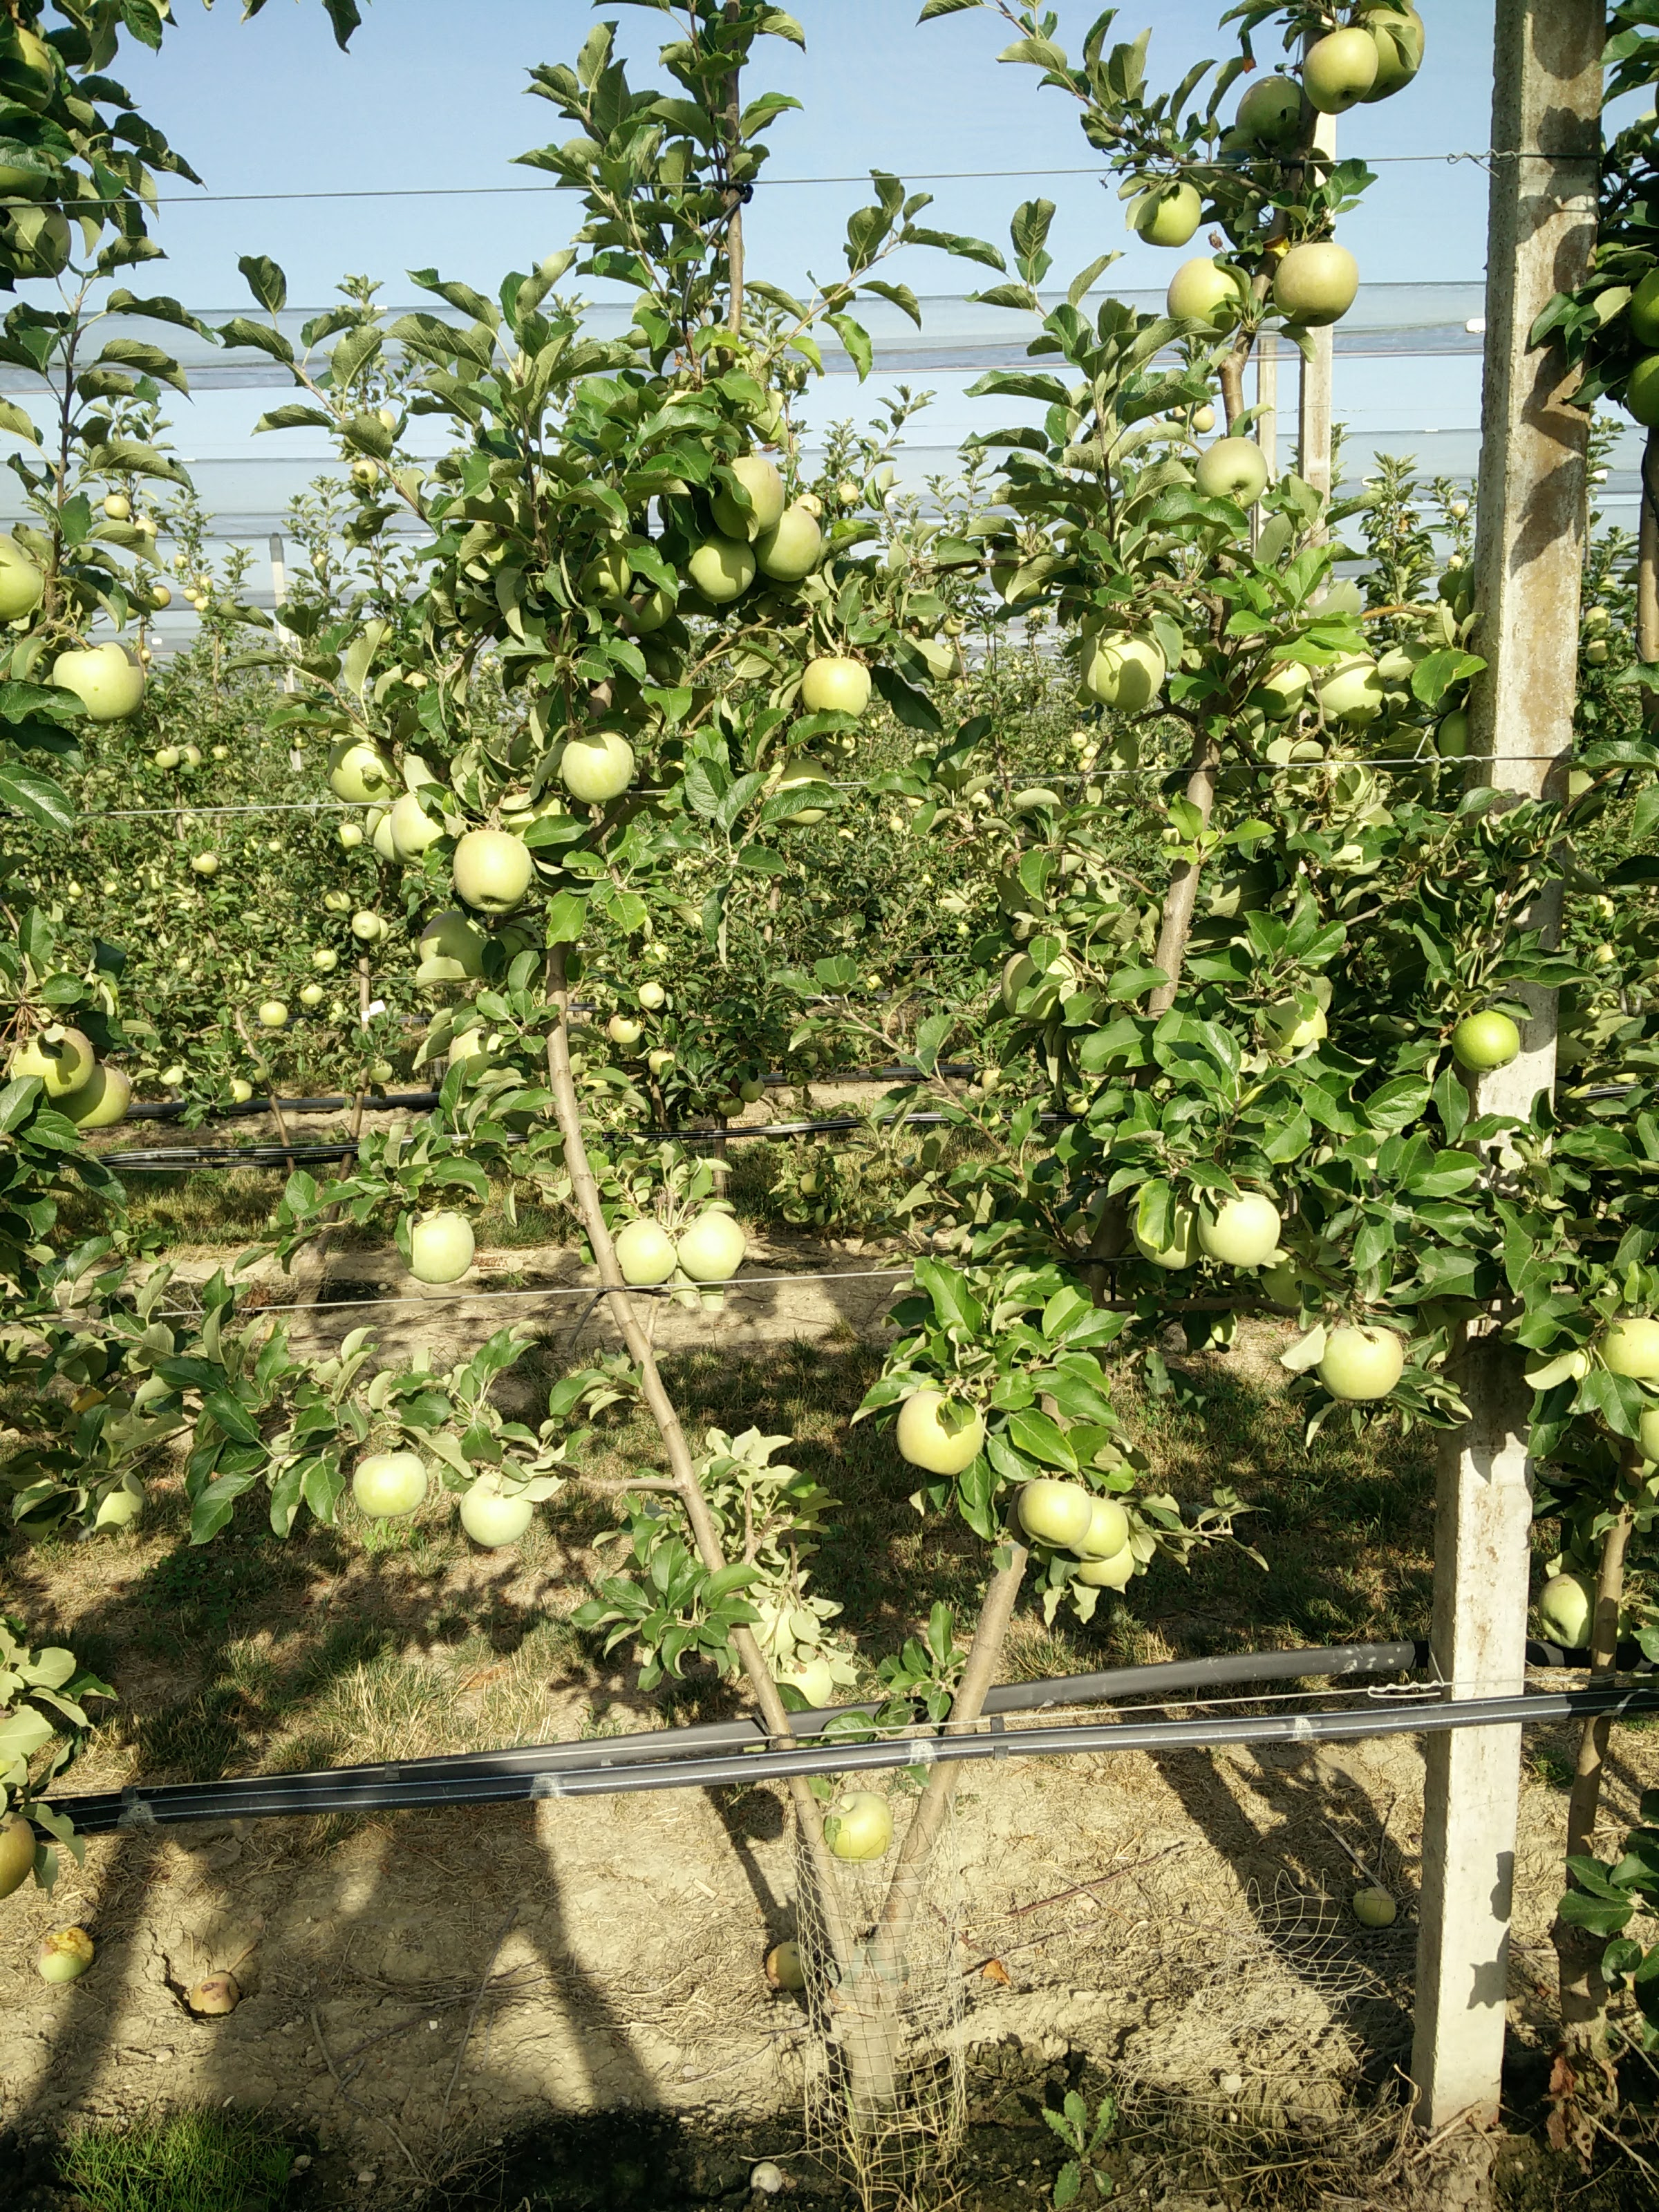apple: (1311, 1315, 1407, 1410), (894, 1388, 988, 1478), (1075, 628, 1168, 711), (1272, 243, 1358, 330), (1300, 25, 1381, 118), (1164, 255, 1252, 340), (449, 827, 536, 913), (1198, 1183, 1280, 1271), (1189, 432, 1277, 512), (701, 459, 785, 538), (1304, 646, 1387, 727), (556, 731, 641, 806), (457, 1474, 541, 1550), (1013, 1472, 1092, 1548), (395, 1209, 478, 1284), (818, 1788, 901, 1863), (755, 507, 829, 585), (326, 733, 400, 810), (1133, 175, 1204, 250), (671, 1211, 748, 1282), (351, 1452, 429, 1521), (800, 657, 872, 726), (1448, 1007, 1522, 1077), (608, 1216, 677, 1289), (686, 537, 758, 605), (1069, 1498, 1140, 1564)
